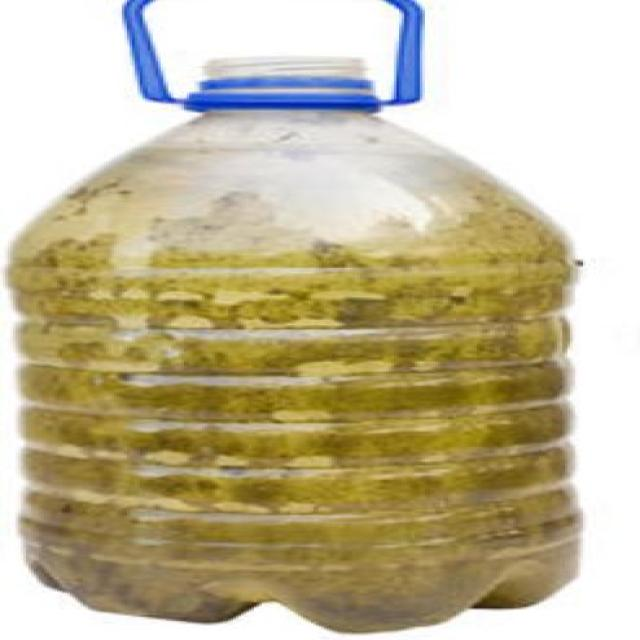general: (2, 0, 585, 632)
